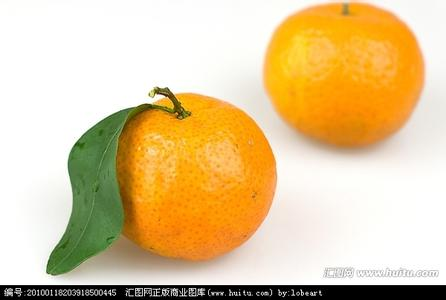orange: (92, 84, 284, 259), (262, 5, 427, 146)
